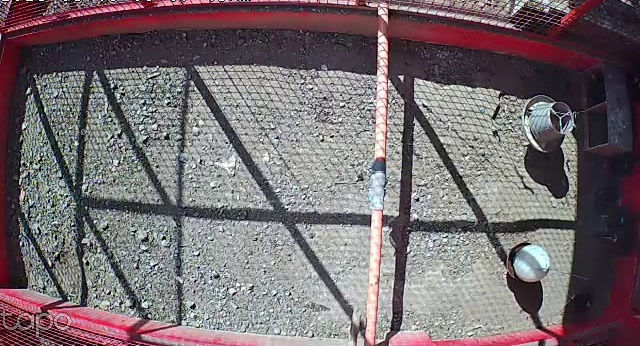Chicken: (570, 289, 597, 314)
